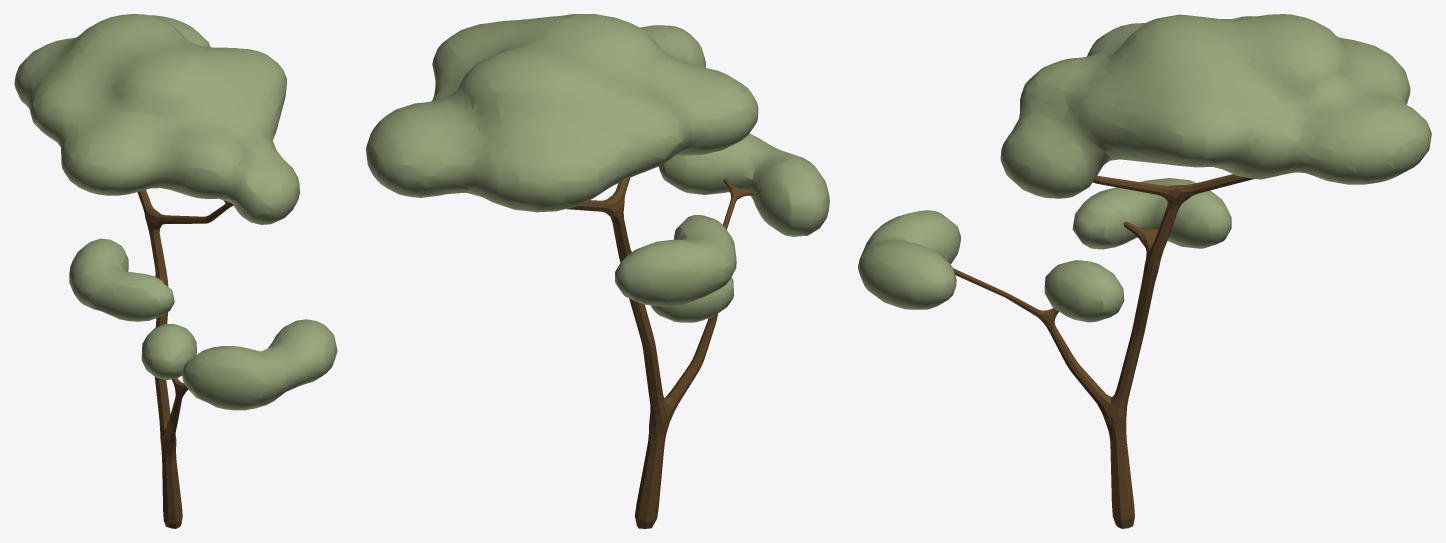
The model's file is savannaTree.glb.
The picture shows the model from 3 angles, left to right: view 1: azimuth 30°, elevation 25°; view 2: azimuth 150°, elevation 25°; view 3: azimuth 270°, elevation 25°; orthographic projection. The views are drawn at different scales.
Visible parts, largest first — view 1: Leaves, Tree; view 2: Leaves, Tree; view 3: Leaves, Tree.
Part boxes in pixels (x1=…): Leaves: x1=14, y1=14, x2=337, y2=410; Tree: x1=137, y1=190, x2=233, y2=528; Leaves: x1=366, y1=14, x2=829, y2=322; Tree: x1=567, y1=177, x2=753, y2=528; Leaves: x1=858, y1=14, x2=1431, y2=322; Tree: x1=953, y1=174, x2=1254, y2=528.
Bounding box in the file's own units: 11.15 × 19.82 × 20.07.
